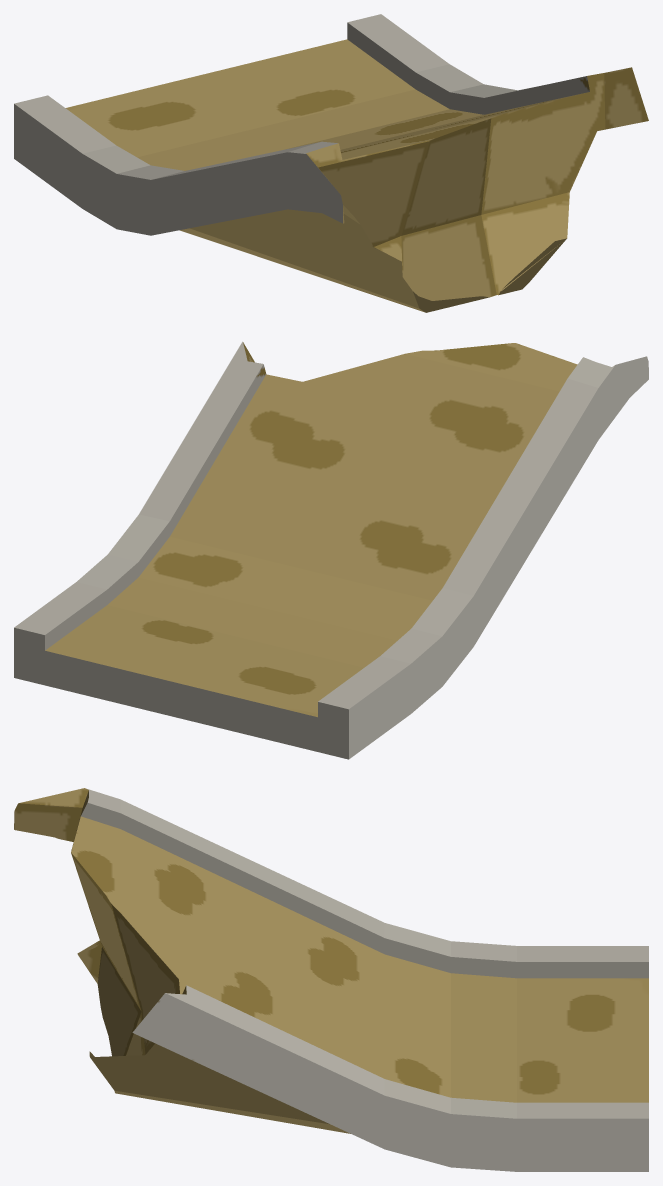
Rendered from yikik_kopru.fbx.
The picture shows the model from 3 angles, top to bottom: view 1: azimuth 30°, elevation 25°; view 2: azimuth 150°, elevation 25°; view 3: azimuth 270°, elevation 25°; orthographic projection. The views are drawn at different scales.
Parts seen in each view (by area): view 1: Plane.004; view 2: Plane.004; view 3: Plane.004.
Boxes of the visible parts, x1,y1,x2,y2 form: Plane.004: (14, 14, 648, 312); Plane.004: (14, 341, 648, 759); Plane.004: (14, 788, 648, 1171).
Size of the model in its own units: 6.18 by 3.54 by 9.6.
1 material, 1 textured.
